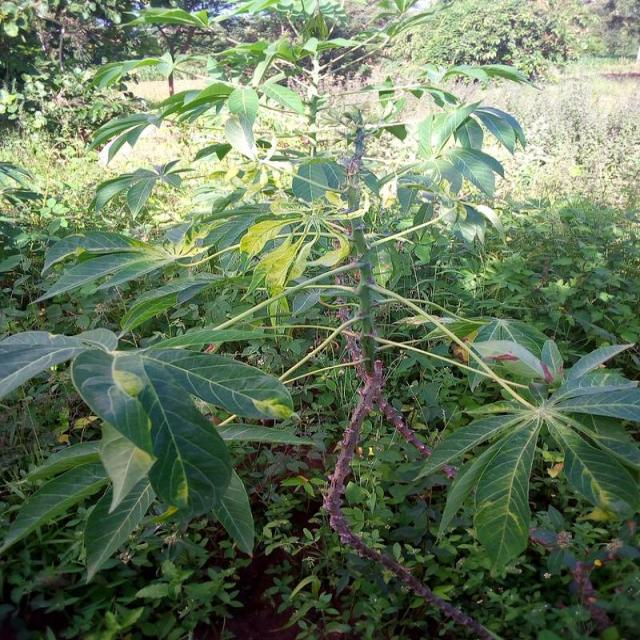Mosaico: (17, 308, 338, 458), (71, 211, 317, 367), (468, 325, 640, 493), (251, 185, 356, 311)
